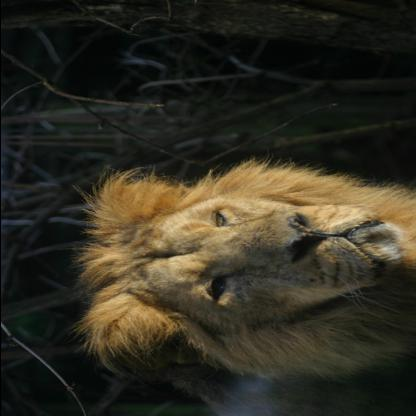lion: (93, 166, 413, 375)
